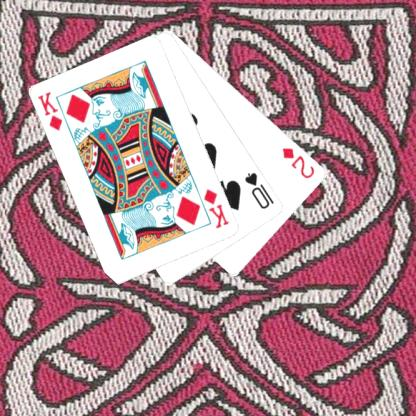10S: (242, 169, 276, 211)
2D: (280, 144, 317, 180)
KD: (201, 185, 231, 230), (35, 90, 64, 132)
